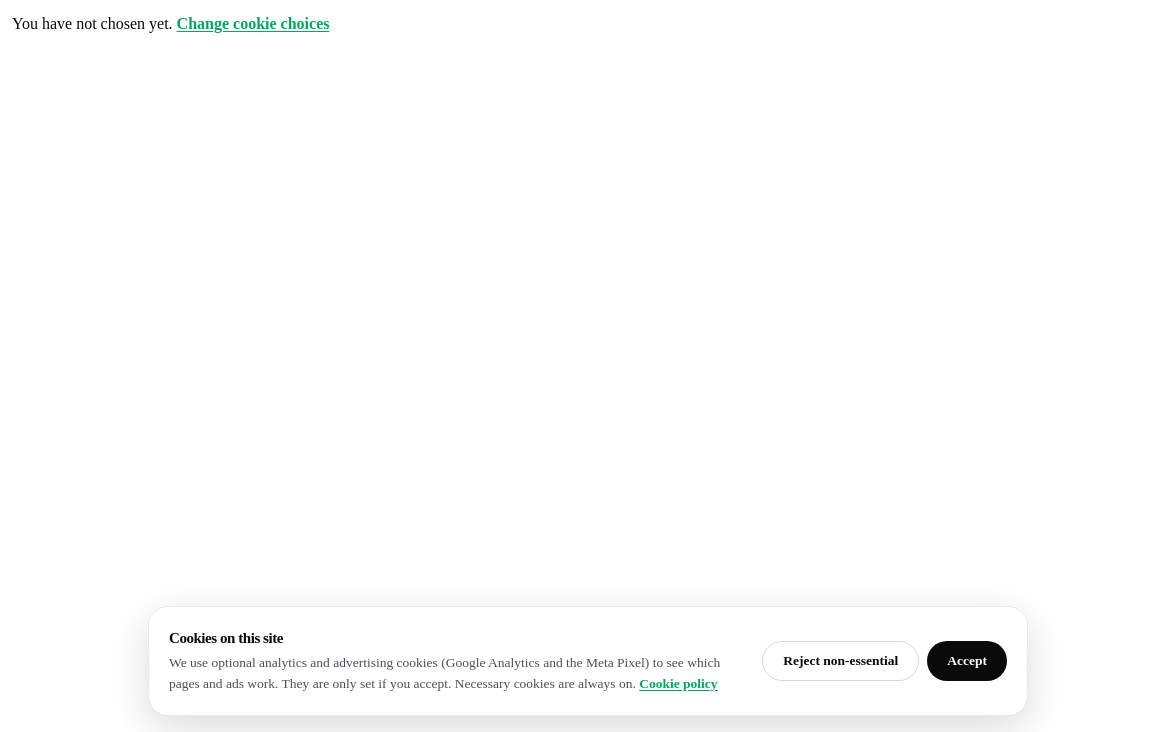
after consent › Accept loads GA4 and the Pixel, each with its first page view
Click the button "Accept". click: click(967, 661)
box: [927,641,1007,681]
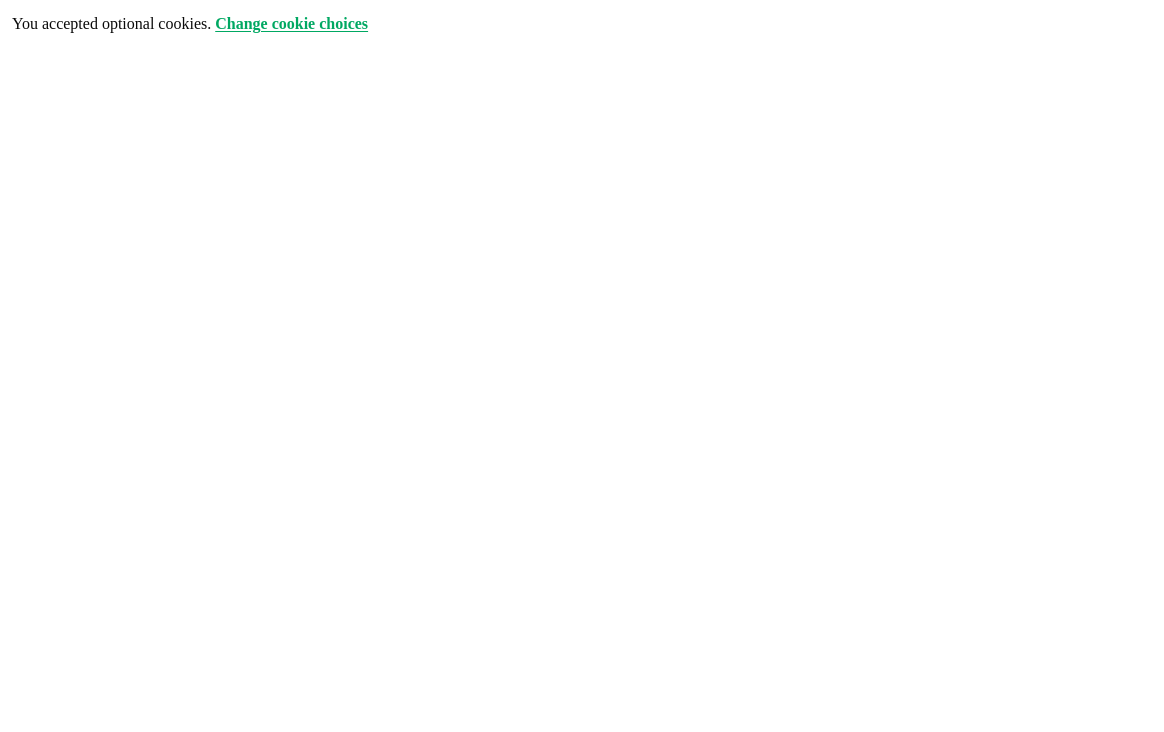
Now the element with test id "consent-banner" is gone
